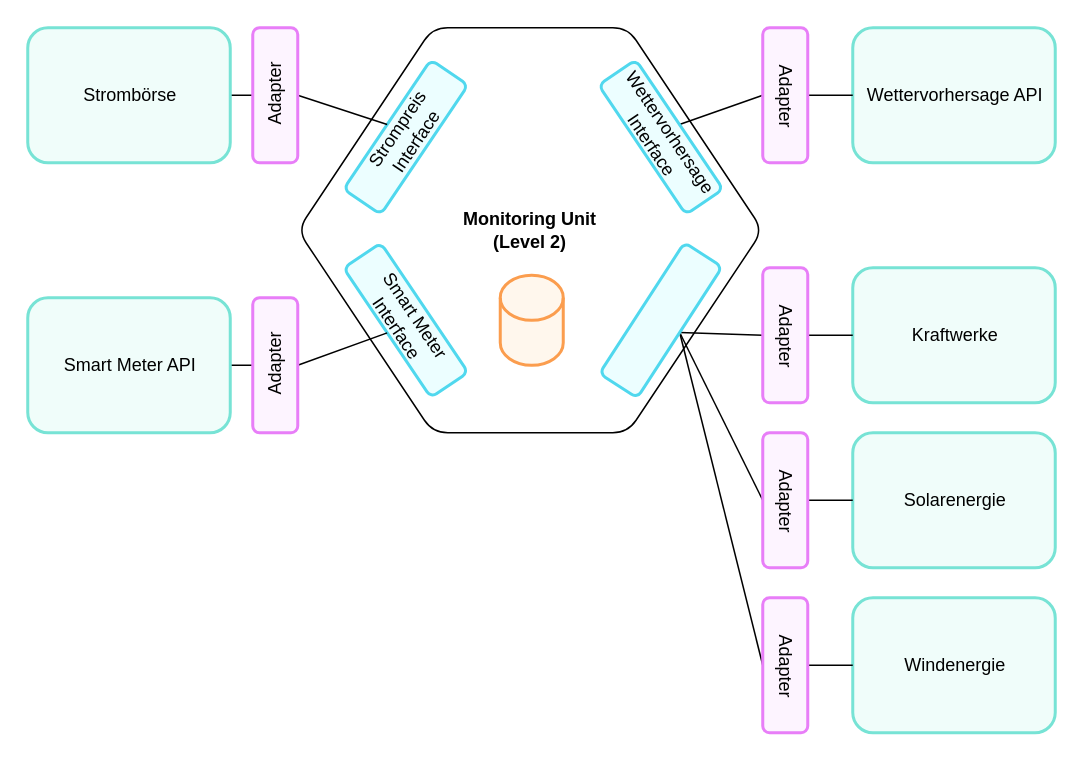
The diagram is 1082 pixels wide and 759 high, and some of its shapes have lost their labels. Each missing label, with the centre of its shape:
"Energieproduktion Interface" goes at [660,319].
"TS DB" goes at [531,319].
